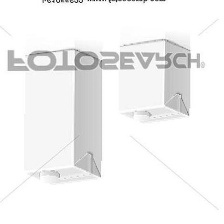carton: (19, 40, 105, 188), (114, 34, 197, 128)
